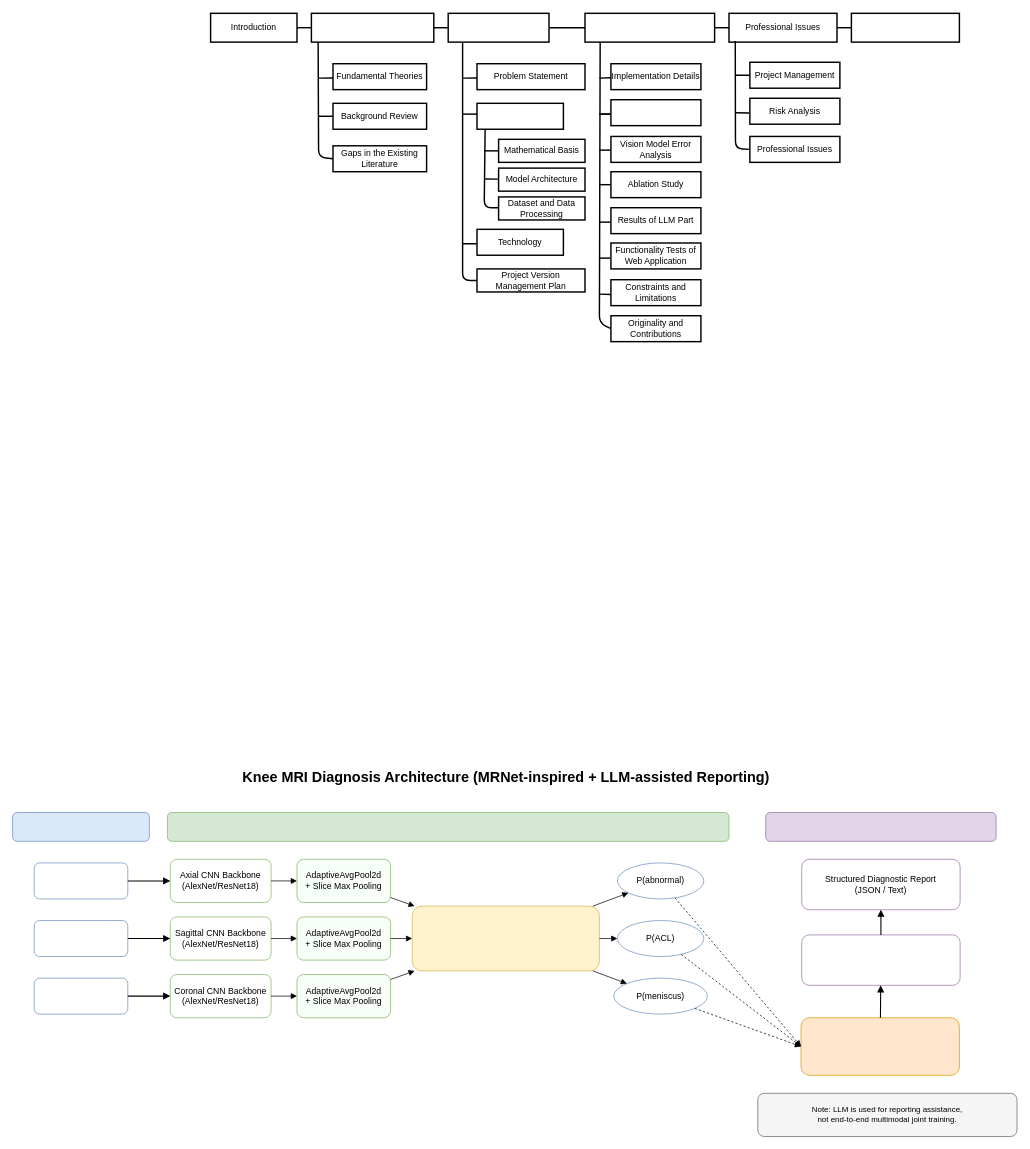
The diagram is 1030 pixels wide and 1149 high, and some of its shapes have lost their labels. The centre of each missing label's shape, as x and y in pixels:
"Adjusted probabilities: P(ACL)*P(abnormal), P(meniscus)*P(abnormal)" goes at (x=879, y=1046).
"Approach" goes at (x=520, y=116).
"Axial Slices" goes at (x=80, y=880).
"Conclusion" goes at (x=905, y=27).
"Coronal Slices" goes at (x=80, y=995).
"Feature Concatenation + Linear Classifier + Sigmoid" goes at (x=505, y=938).
"Implementation and Results" goes at (x=649, y=27).
"Input MRI Exam" goes at (x=80, y=826).
"Literature Review" goes at (x=372, y=27).
"LLM-Assisted Reporting Layer" goes at (x=880, y=826).
"Methodology" goes at (x=498, y=27).
"Prompted LLM (post-classification)" goes at (x=880, y=959).
"Sagittal Slices" goes at (x=80, y=938).
"TripleMRNet Visual Module (MRNet-inspired)" goes at (x=448, y=826).
"Vision Model Results" goes at (x=655, y=112).
